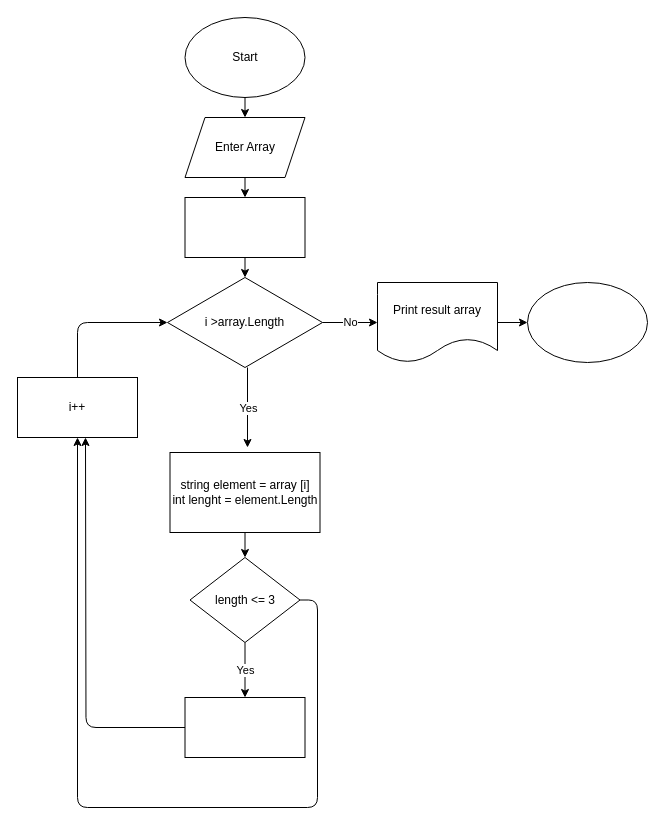
This 665x833 diagram has some shape labels left out. Here are the shapes that lost their labels. From the top down, the centre of each, then its label:
At pixel 244 227: "int i = 0".
At pixel 587 322: "End".
At pixel 244 727: "Print element".
